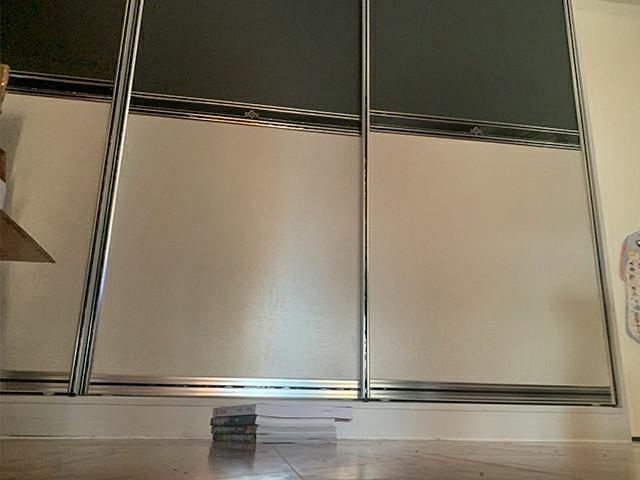book: (209, 402, 354, 443)
cabinet: (79, 107, 616, 441)
